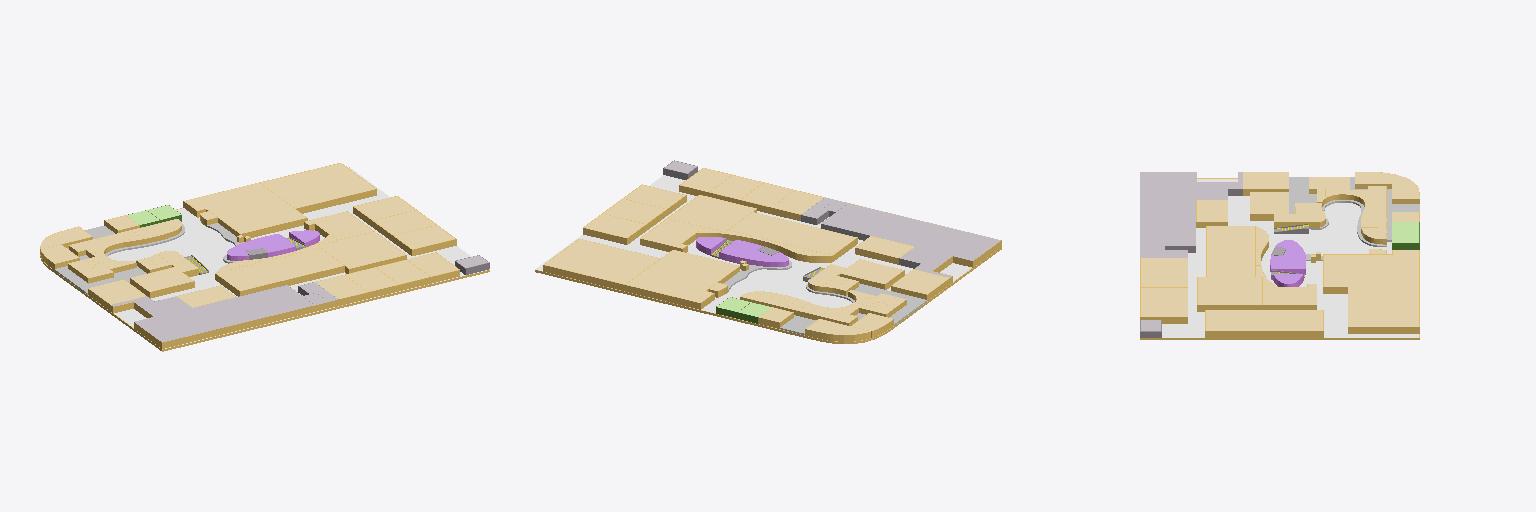
The model's file is logix_noicon_thirdfloor.obj.
3 views of the same model, side by side, from view 1: azimuth 30°, elevation 25°; view 2: azimuth 150°, elevation 25°; view 3: azimuth 270°, elevation 25° (orthographic).
Parts seen in each view (by area): view 1: pasted__polySurface227; view 2: pasted__polySurface227; view 3: pasted__polySurface227.
Boxes of the visible parts, box(x1,y1,x2,y2) form: pasted__polySurface227: box(40, 163, 489, 351); pasted__polySurface227: box(535, 160, 1001, 343); pasted__polySurface227: box(1140, 172, 1419, 339).
Size of the model in its own units: 32.11 by 0.8725 by 23.78.